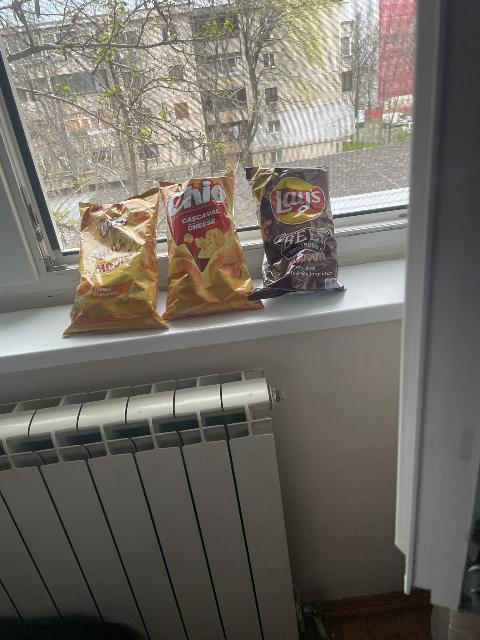Chio Cascaval 125g: (159, 172, 263, 320)
Chio Hula Hoops Cheese 70g: (59, 189, 168, 337)
Lays Beef Grilled Ribs 125g: (250, 164, 345, 298)
